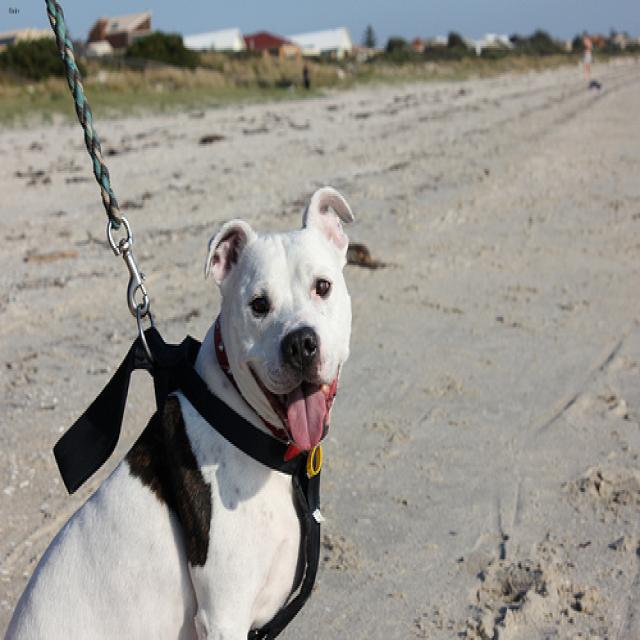dog-staffordshire_bull_terrier: (1, 181, 360, 636)
